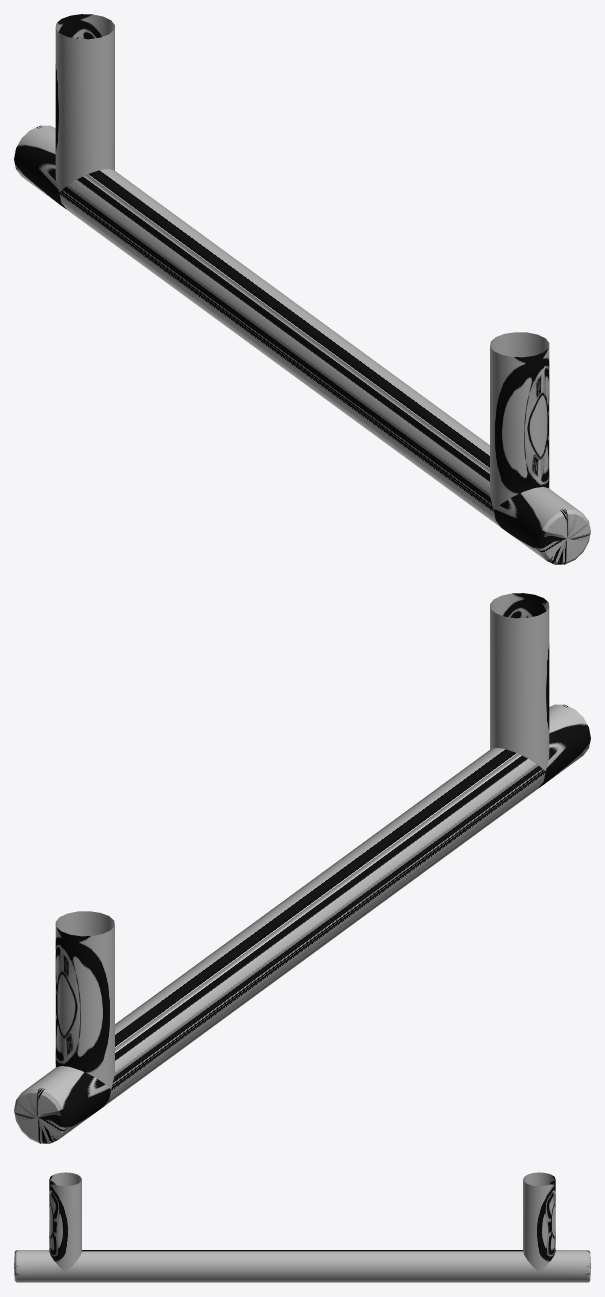
File: Handle_G.obj
3 renders of one model, top to bottom at view 1: azimuth 30°, elevation 25°; view 2: azimuth 150°, elevation 25°; view 3: azimuth 270°, elevation 25°, orthographic. The views are drawn at different scales.
Size of the model in its own units: 0.0127 by 0.0436 by 0.2242.
